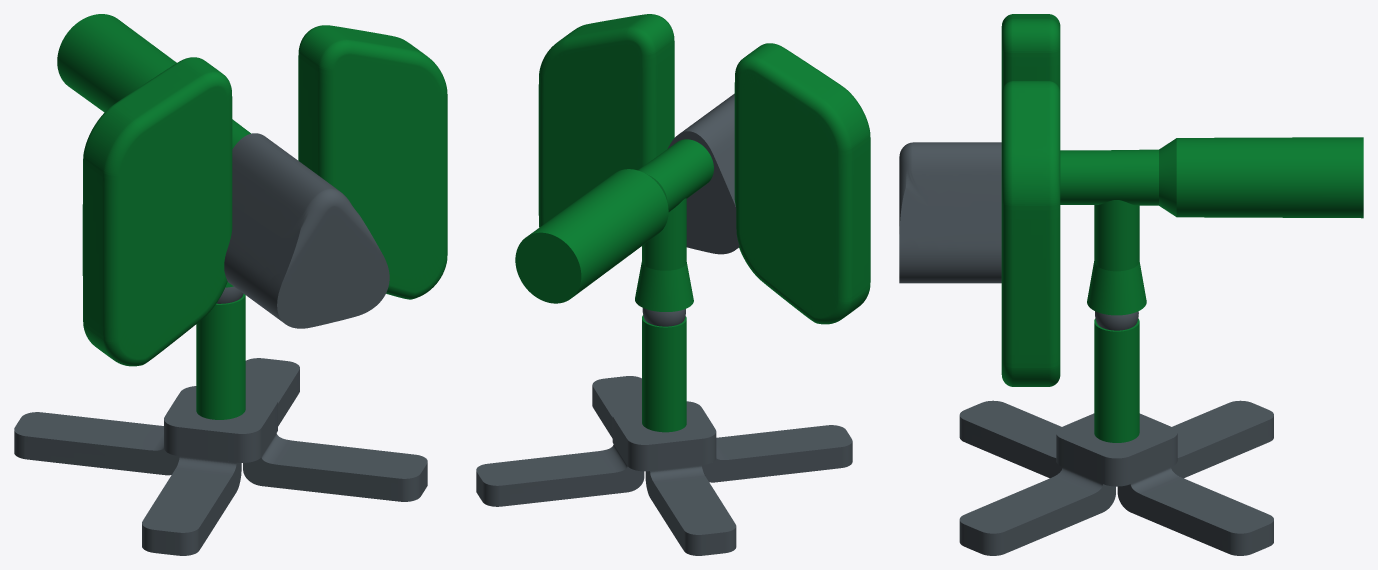
File: torretGun.fbx
The picture shows the model from 3 angles, left to right: view 1: azimuth 30°, elevation 25°; view 2: azimuth 150°, elevation 25°; view 3: azimuth 270°, elevation 25°; orthographic projection. The views are drawn at different scales.
Visible parts, largest first — view 1: Vert.004, feet, Cube.003, Cylinder.002, Cube, Cylinder; view 2: Vert.004, feet, Cylinder.002, Cube.003, Cube, Cylinder, Cylinder.001, Sphere; view 3: feet, Vert.004, Cylinder.002, Cube.003, Cube, Cylinder.001, Cylinder, Sphere.
Part boxes in pixels (x1,y1,x2,y2): Vert.004: [82, 25, 447, 366]; feet: [14, 358, 427, 555]; Cube.003: [224, 133, 389, 328]; Cylinder.002: [57, 14, 250, 148]; Cube: [164, 386, 277, 462]; Cylinder: [196, 294, 245, 419]; Vert.004: [538, 14, 870, 324]; feet: [476, 376, 852, 555]; Cylinder.002: [515, 139, 713, 303]; Cube.003: [667, 93, 739, 254]; Cube: [612, 401, 716, 471]; Cylinder: [642, 315, 686, 432]; Cylinder.001: [635, 198, 693, 311]; Sphere: [642, 308, 685, 326]; feet: [959, 400, 1273, 555]; Vert.004: [1001, 14, 1060, 386]; Cylinder.002: [1060, 137, 1363, 218]; Cube.003: [899, 142, 1001, 283]; Cube: [1056, 413, 1177, 486]; Cylinder.001: [1087, 200, 1146, 315]; Cylinder: [1094, 318, 1139, 442]; Sphere: [1095, 311, 1138, 330].
Bounding box in the file's own units: 77.58 × 97.36 × 93.73.
